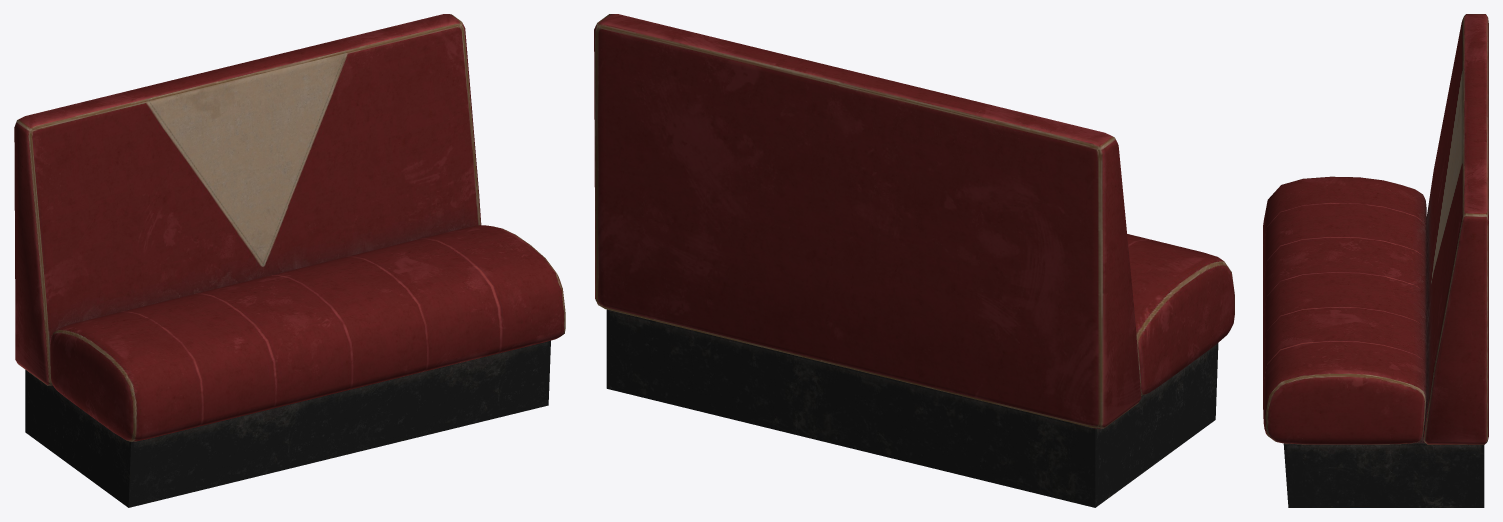
Rendered from sofa.obj.
3 renders of one model, left to right at view 1: azimuth 30°, elevation 25°; view 2: azimuth 150°, elevation 25°; view 3: azimuth 270°, elevation 25°, orthographic. The views are drawn at different scales.
Visible parts, largest first — view 1: Box006; view 2: Box006; view 3: Box006.
Part boxes in pixels (x1,y1,x2,y2): Box006: (14, 14, 565, 507); Box006: (594, 14, 1234, 507); Box006: (1263, 14, 1488, 507).
Bounding box in the file's own units: 68.4 × 46.86 × 32.12.
1 material, 1 textured.
